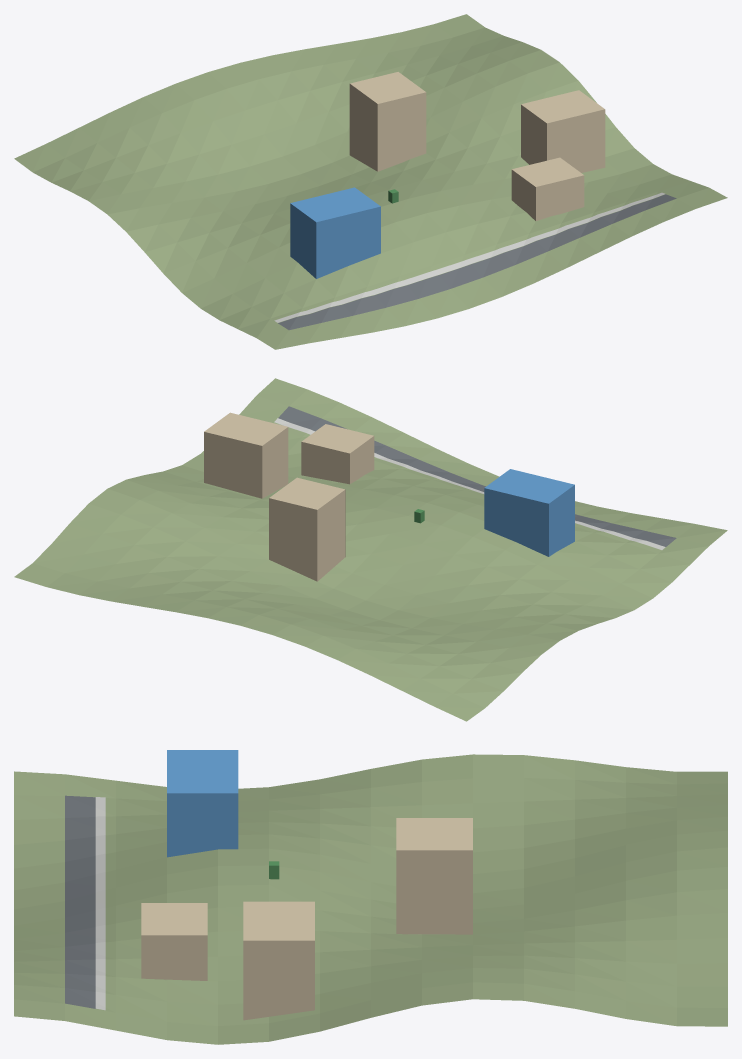
The model's file is planted.glb.
3 renders of one model, top to bottom at view 1: azimuth 30°, elevation 25°; view 2: azimuth 150°, elevation 25°; view 3: azimuth 270°, elevation 25°, orthographic. The views are drawn at different scales.
Visible parts, largest first — view 1: terrain, keep-B, new-N, outside-C, road, crossing-D, walk; view 2: terrain, keep-B, new-N, outside-C, crossing-D, road, walk; view 3: terrain, keep-B, outside-C, new-N, road, crossing-D, walk.
Boxes of the visible parts, x1,y1,x2,y2 form: terrain: (14,14,727,349); keep-B: (349,72,426,171); new-N: (290,187,380,278); outside-C: (521,90,605,172); road: (278,194,676,330); crossing-D: (511,157,584,220); walk: (274,192,664,322); terrain: (14,378,727,721); keep-B: (269,477,345,581); new-N: (484,469,574,556); outside-C: (204,412,288,498); crossing-D: (301,424,374,484); road: (278,406,676,546); walk: (274,418,665,549); terrain: (14,754,727,1044); keep-B: (396,818,472,934); outside-C: (243,901,314,1020); new-N: (167,750,238,857); road: (65,795,95,1008); crossing-D: (141,903,207,980); walk: (95,797,105,1010).
Size of the model in its own units: 140 by 28.85 by 140.
